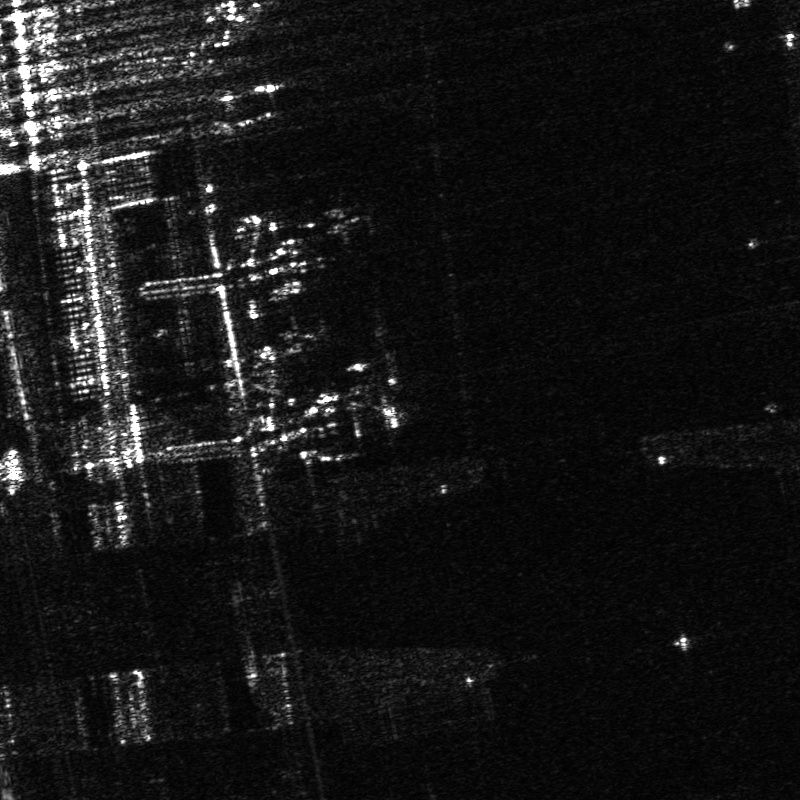Boeing737: (341, 376, 406, 440)
